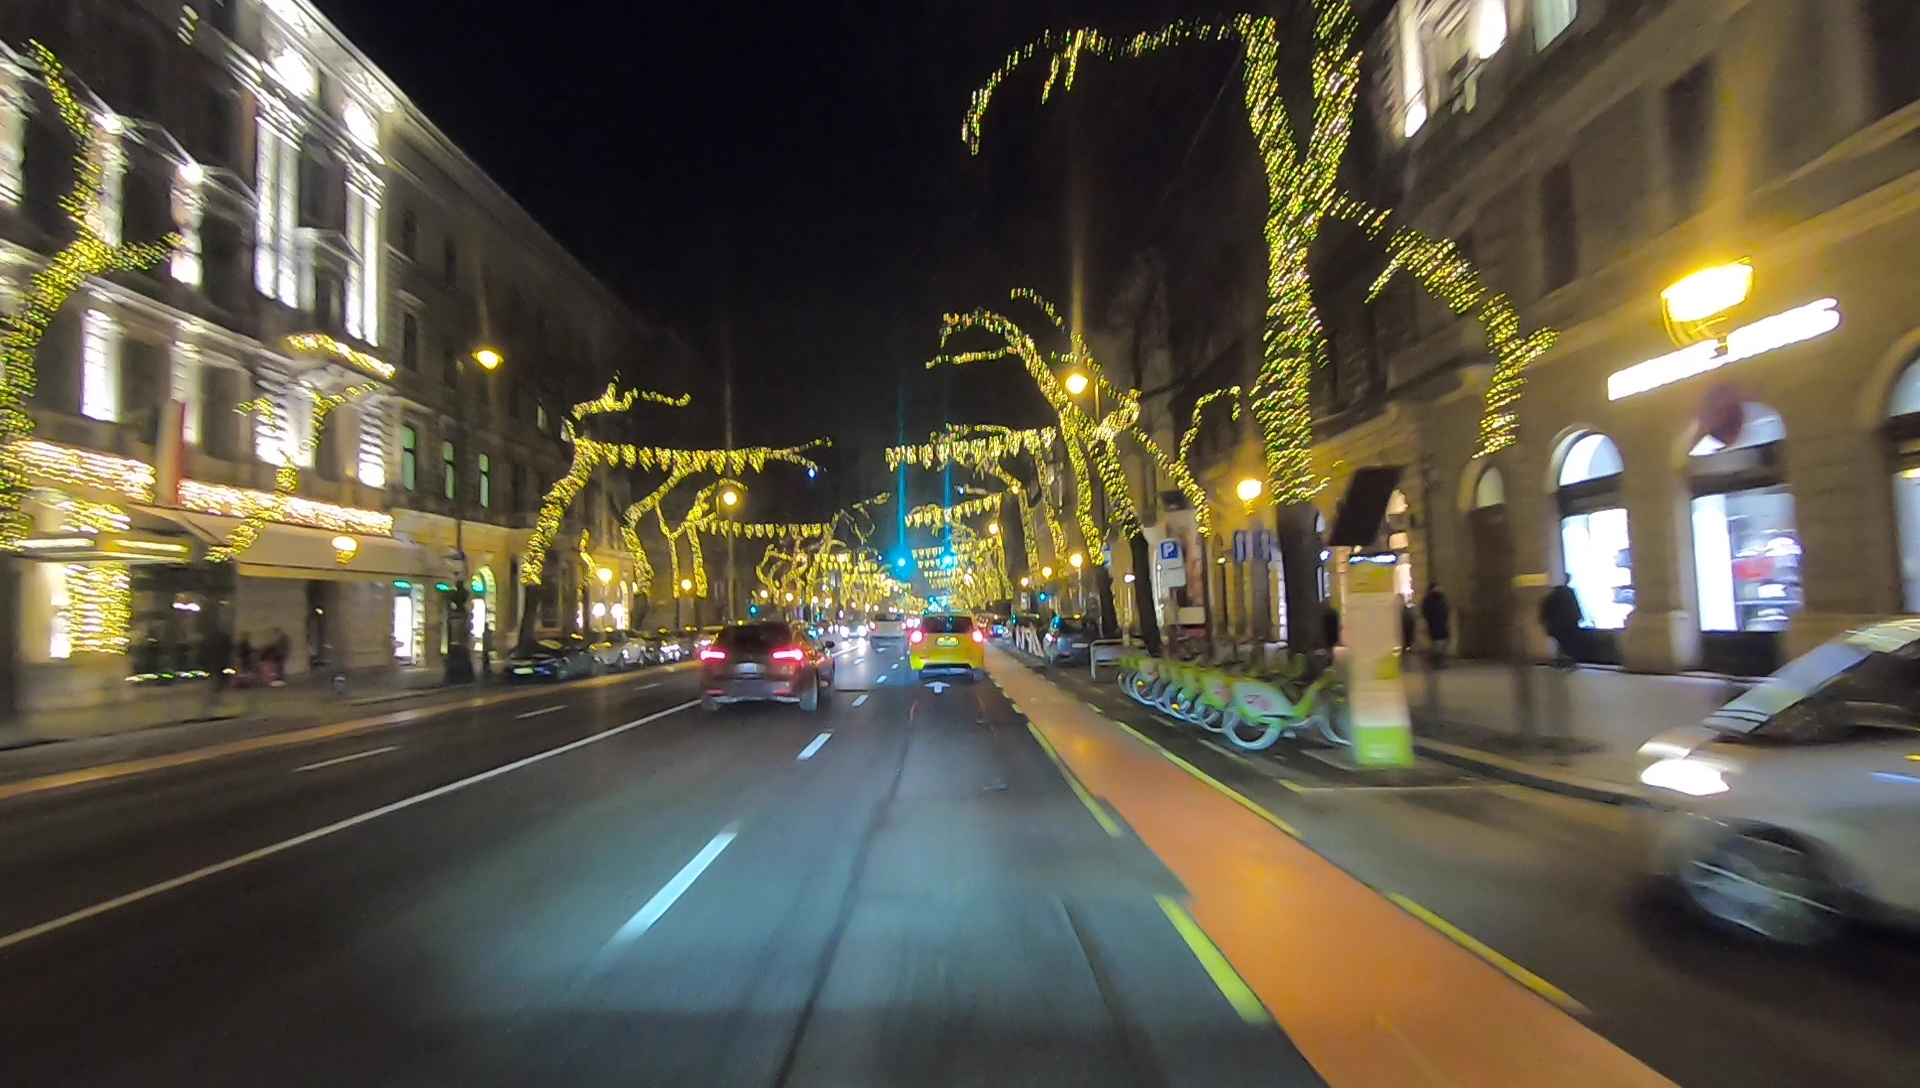person: (1545, 582, 1580, 673), (1419, 582, 1449, 669)
